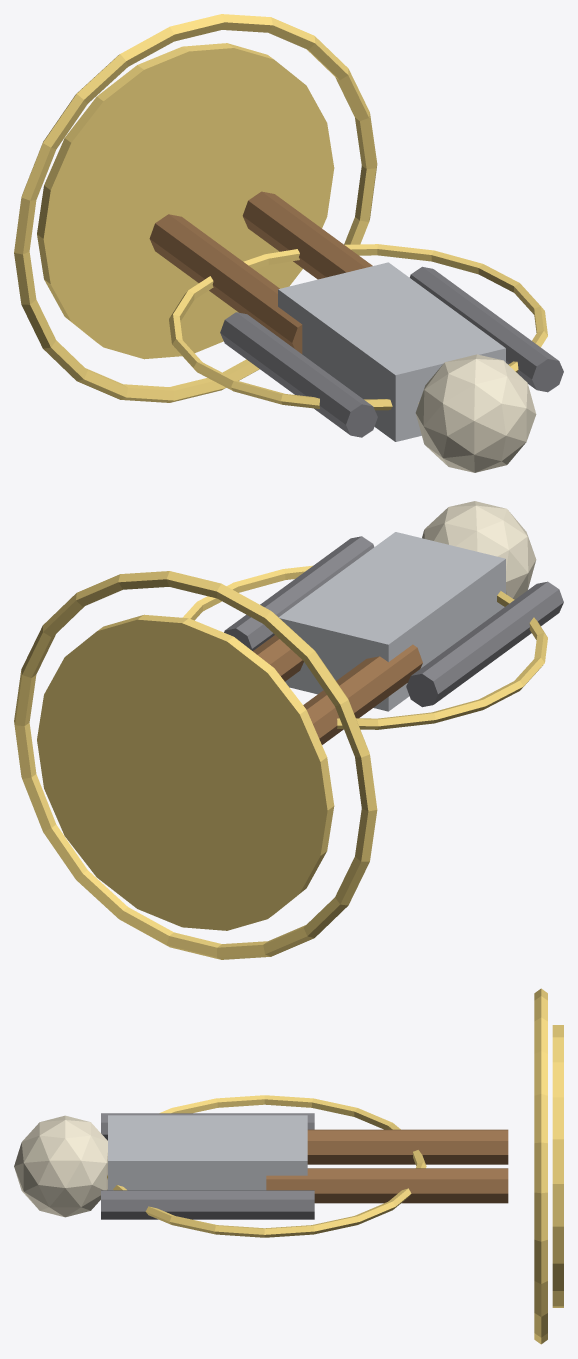
File: biped_death_pose.glb
3 renders of one model, top to bottom at view 1: azimuth 30°, elevation 25°; view 2: azimuth 150°, elevation 25°; view 3: azimuth 270°, elevation 25°, orthographic. The views are drawn at different scales.
Parts seen in each view (by area): view 1: marker_disc, torso, marker_ring, head, left_leg, motion_arc, left_arm, right_leg, right_arm; view 2: marker_disc, torso, marker_ring, left_arm, head, motion_arc, left_leg, right_arm, right_leg; view 3: torso, right_leg, head, left_leg, right_arm, motion_arc, marker_ring, marker_disc, left_arm.
Boxes of the visible parts, bbox=[...] form: marker_disc: bbox=[37, 43, 334, 359]; torso: bbox=[278, 262, 505, 441]; marker_ring: bbox=[14, 14, 377, 402]; head: bbox=[415, 354, 536, 472]; left_leg: bbox=[149, 214, 302, 353]; motion_arc: bbox=[169, 244, 547, 410]; left_arm: bbox=[220, 312, 377, 437]; right_leg: bbox=[242, 191, 372, 279]; right_arm: bbox=[409, 266, 563, 392]; marker_disc: bbox=[37, 614, 334, 930]; torso: bbox=[279, 532, 505, 711]; marker_ring: bbox=[14, 571, 377, 959]; left_arm: bbox=[406, 581, 563, 707]; head: bbox=[422, 501, 536, 599]; motion_arc: bbox=[183, 565, 547, 729]; left_leg: bbox=[303, 644, 422, 744]; right_arm: bbox=[224, 536, 374, 650]; right_leg: bbox=[253, 635, 303, 681]; torso: bbox=[108, 1115, 307, 1190]; right_leg: bbox=[266, 1168, 508, 1203]; head: bbox=[14, 1115, 107, 1217]; left_leg: bbox=[307, 1129, 508, 1164]; right_arm: bbox=[101, 1190, 314, 1219]; motion_arc: bbox=[107, 1095, 426, 1237]; marker_ring: bbox=[534, 988, 547, 1344]; marker_disc: bbox=[552, 1025, 563, 1307]; left_arm: bbox=[101, 1113, 314, 1140].
Size of the model in its own units: 1.25 by 1.24 by 1.93.
